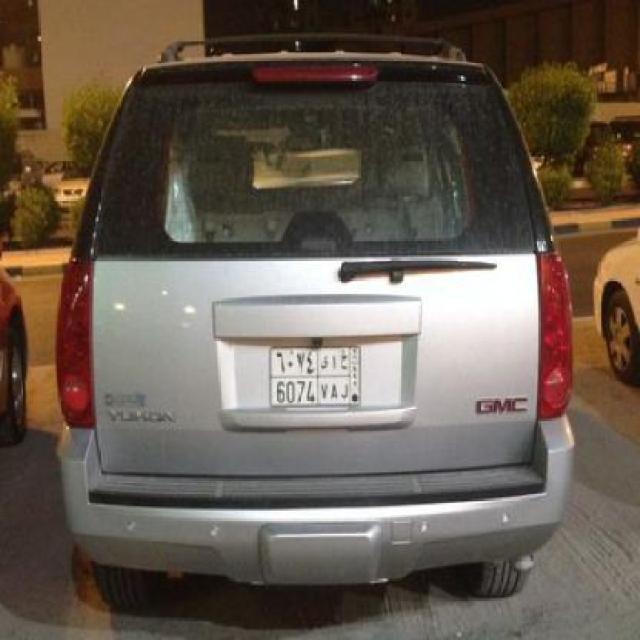license_plate: (268, 344, 364, 410)
